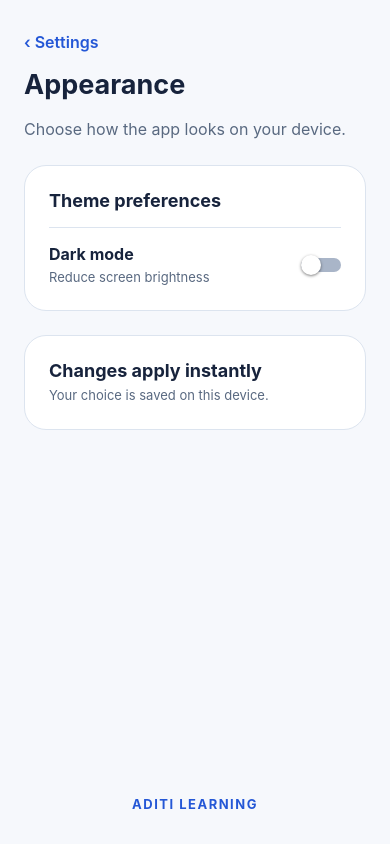
Test: Appearance and Theme Persistence Tests › 7. AsyncStorage failures do not crash app; setItem failure hides helper text
The image size is (390, 844).
Click the switch named "Dark mode".
click(321, 265)  # box x1=301 y1=255 x2=341 y2=275
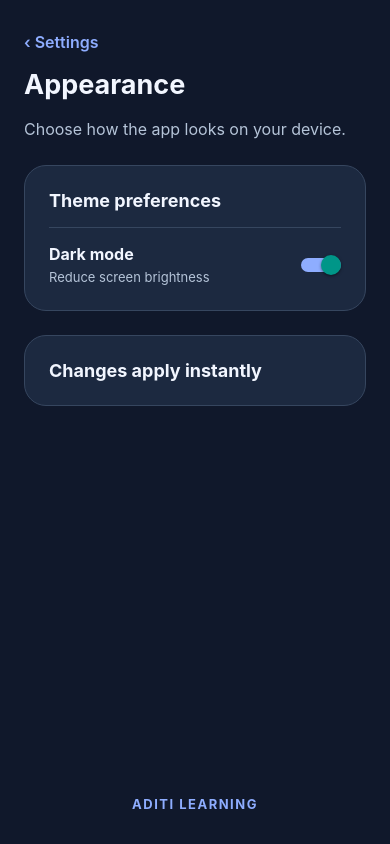
Expected: the text "Your choice is saved on this device." is gone
